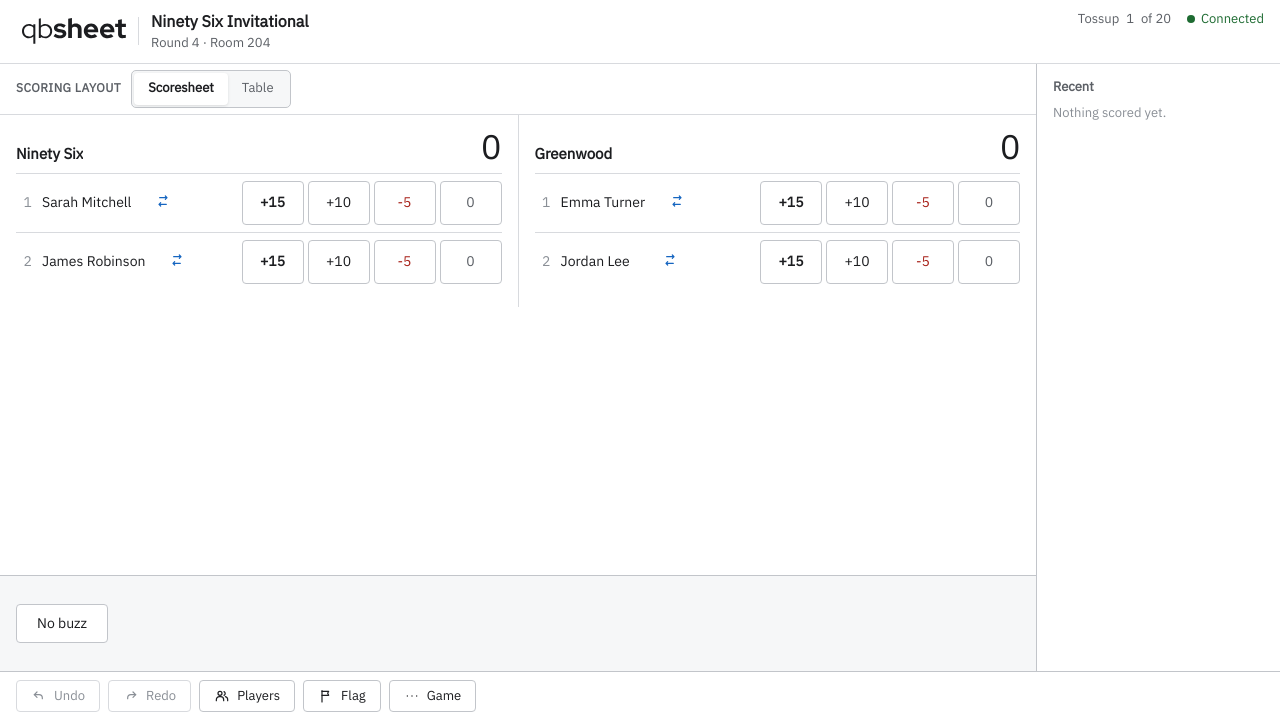
Scenario: scoring a tossup › a conversion goes straight to the bonus, unasked
Click the button "+10" in the row of "Sarah Mitchell".
click(338, 203)  # box [308,181,370,225]
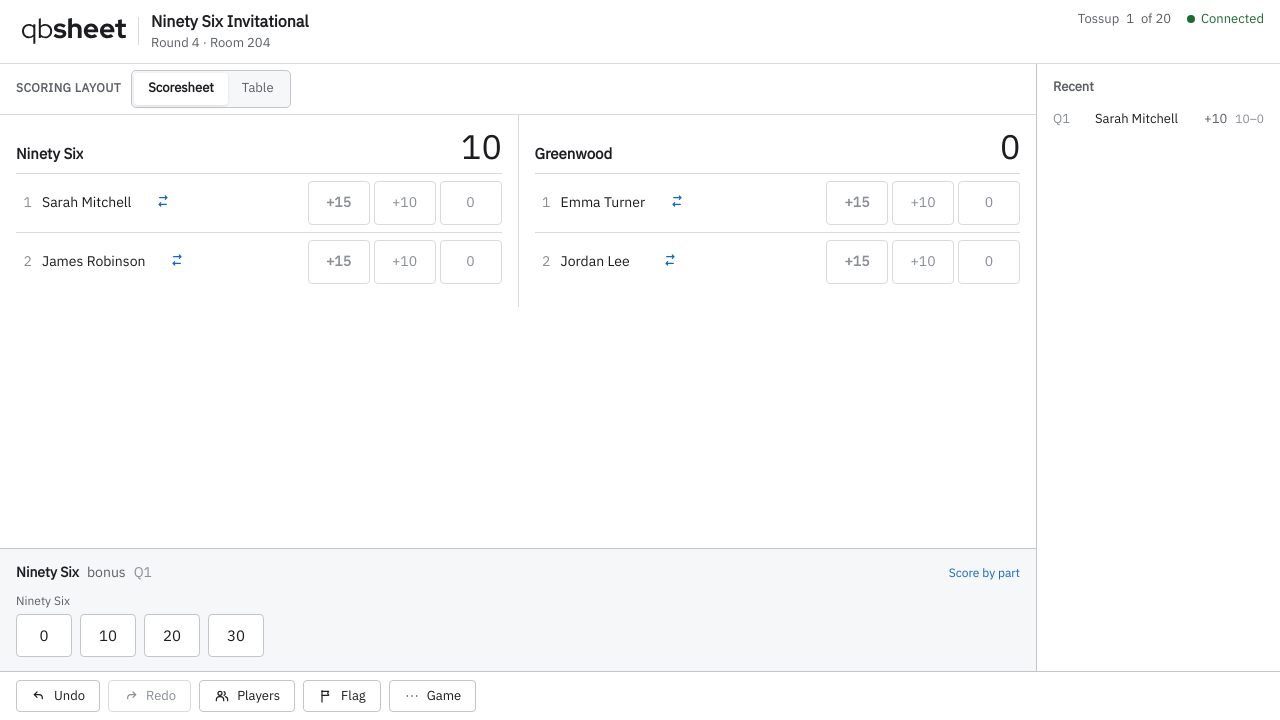
Expected: the text "Ninety Six" next to "bonus" is shown, [16,563,79,581]
